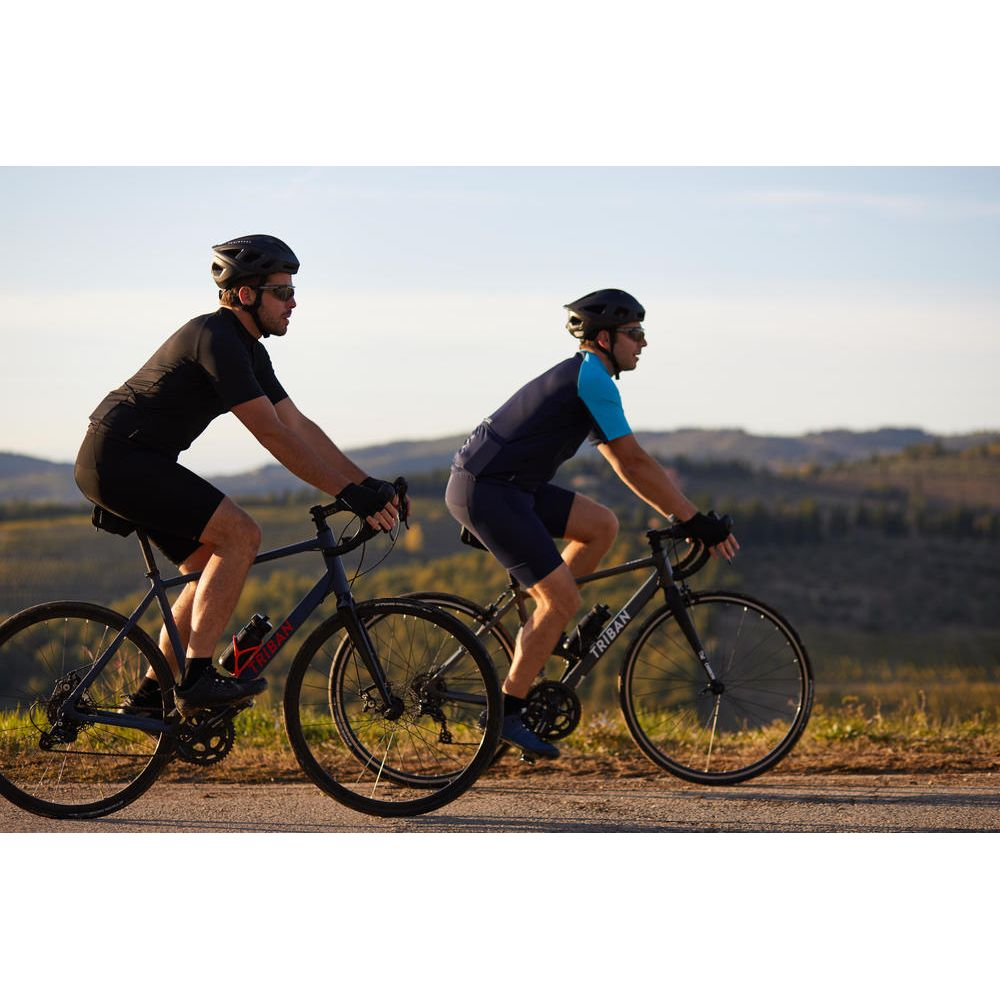RoadBike: (325, 502, 812, 801)
